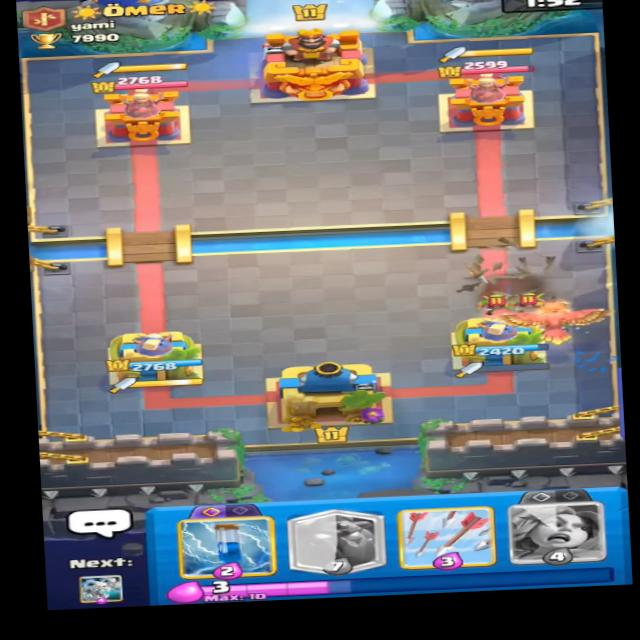goblin: (468, 291, 516, 314), (516, 289, 551, 310)
